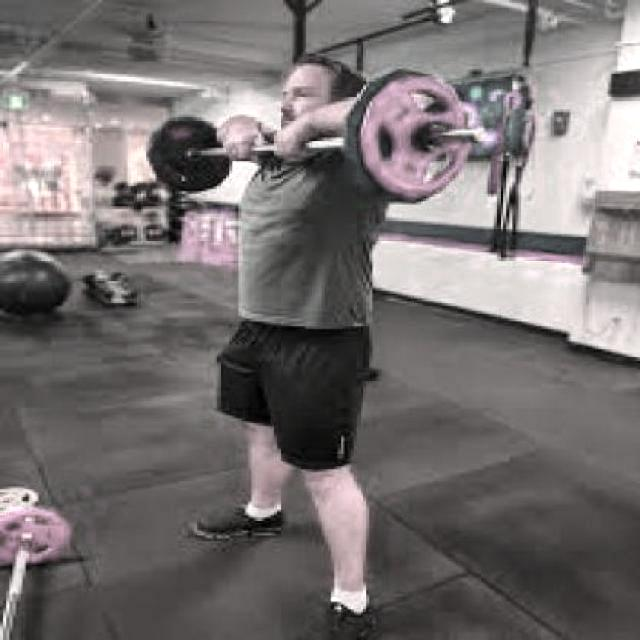barbell: (344, 66, 490, 207)
